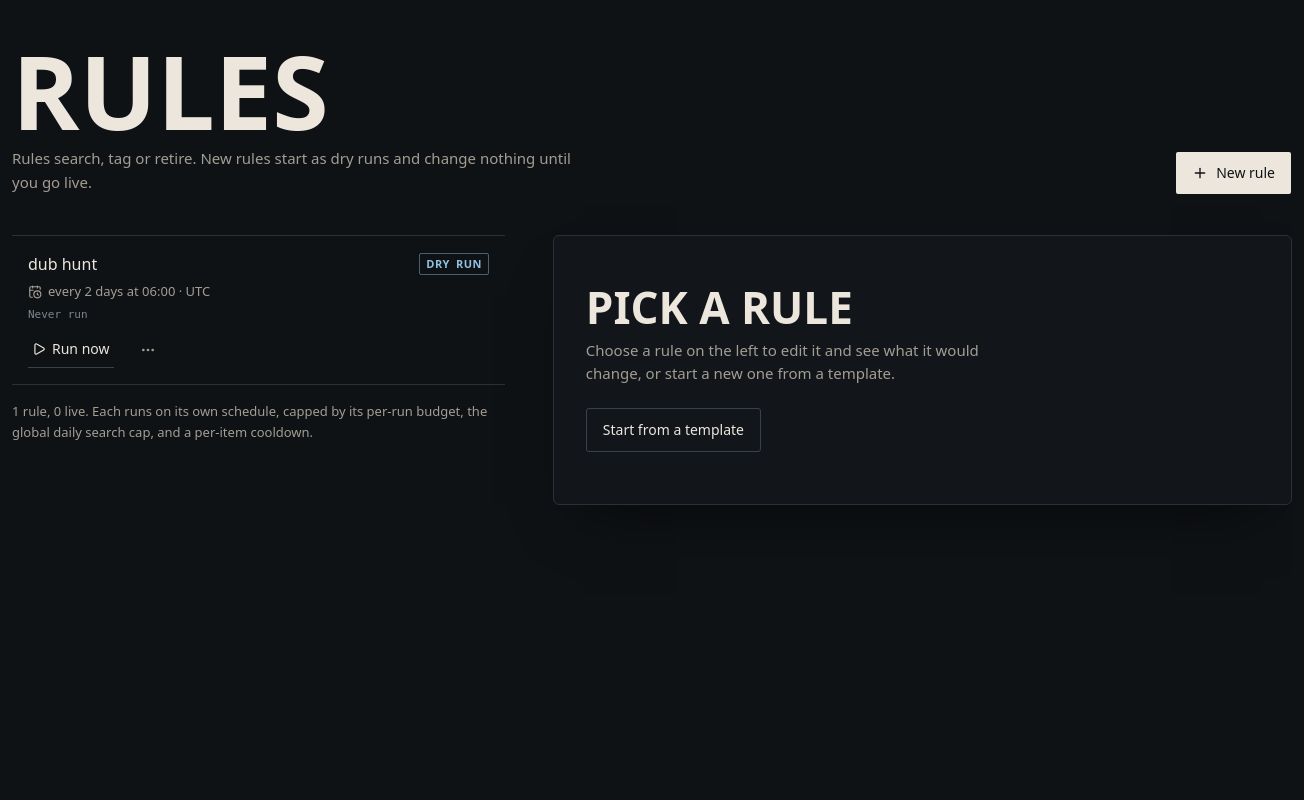
it: AutomationsPage › does not carry one rule's invalidity over to the next rule opened
The width and height of the screenshot is (1304, 800).
Click the button named "more actions for dub hunt": (148, 350) x1=130 y1=332 x2=166 y2=368
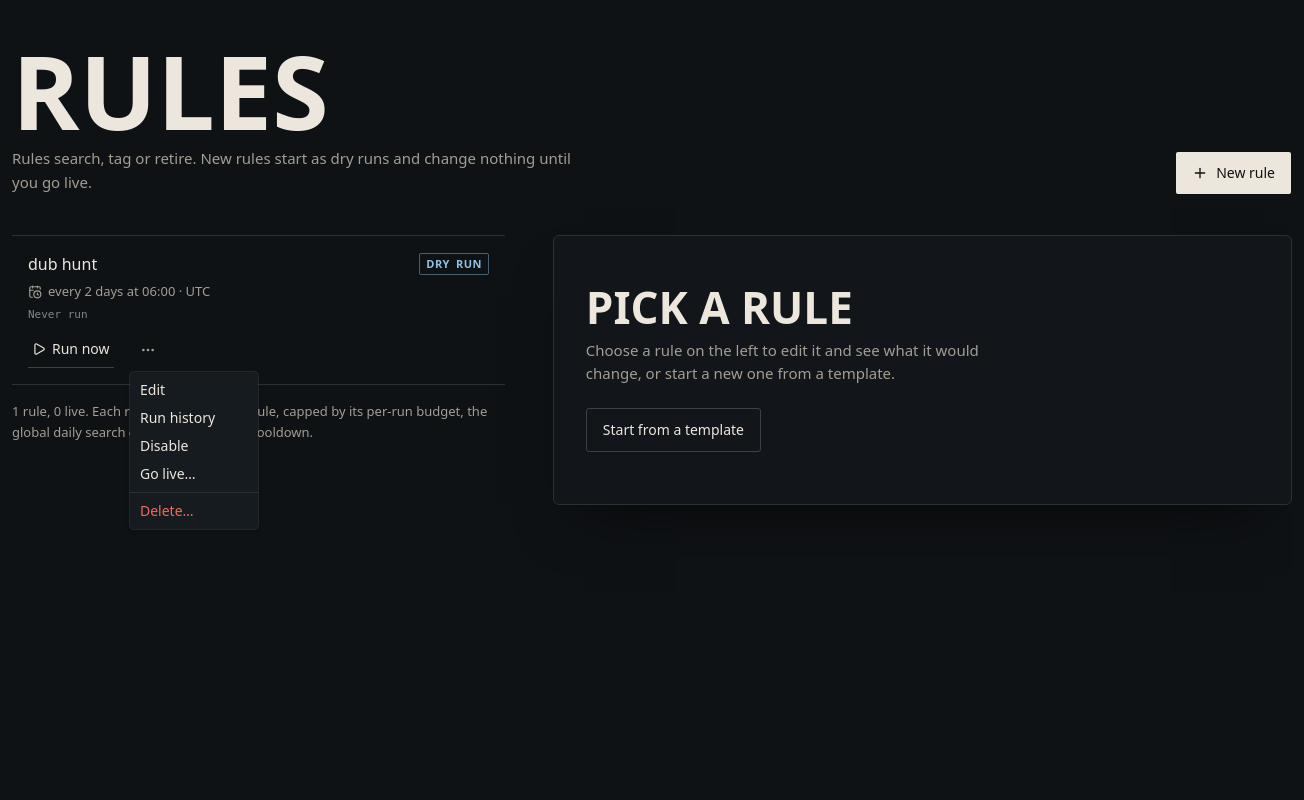
Click the menu item "Edit": (153, 390) x1=140 y1=380 x2=165 y2=399
(page scrolled)
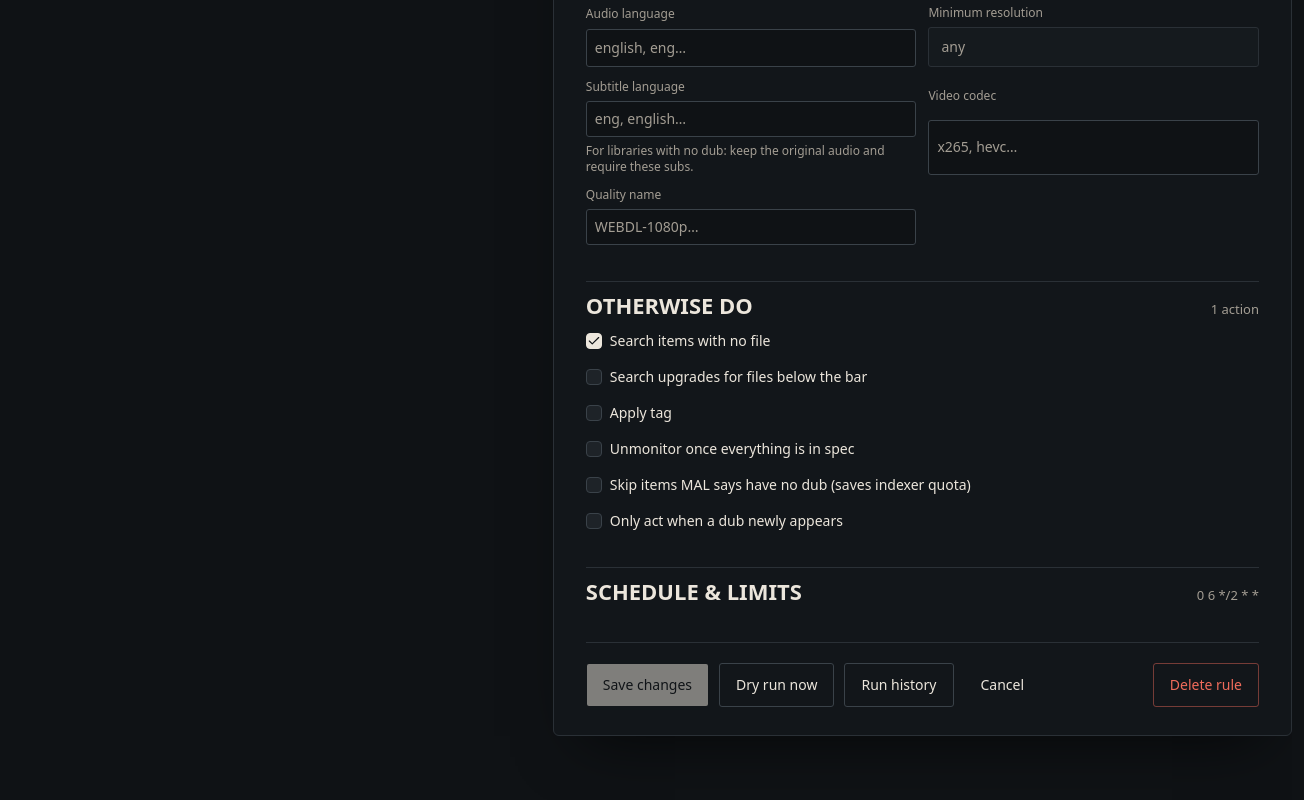
Result: the button "Save changes" is disabled at x1=586 y1=663 x2=709 y2=707
Click the button "Cancel": (1002, 685) x1=964 y1=663 x2=1041 y2=707
(page scrolled)
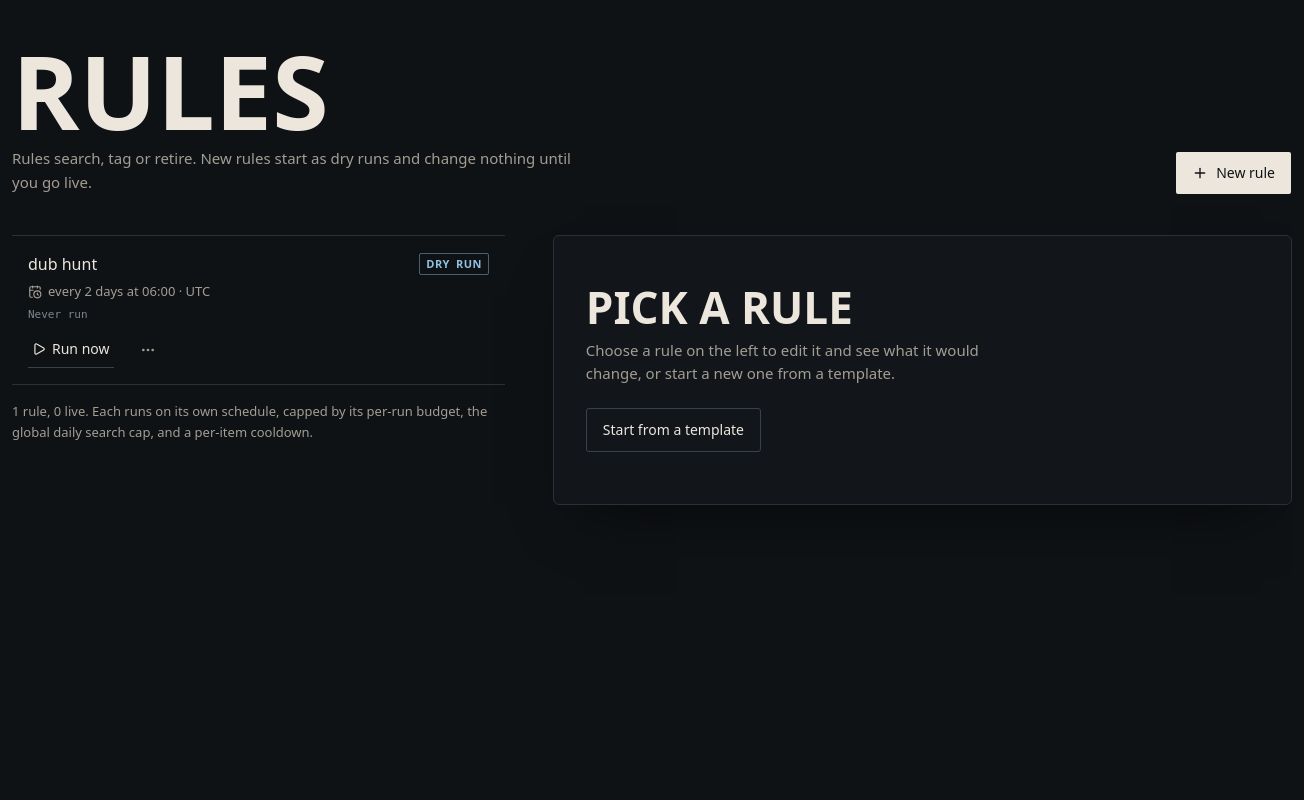
Click the button named "more actions for dub hunt": (148, 350) x1=130 y1=332 x2=166 y2=368
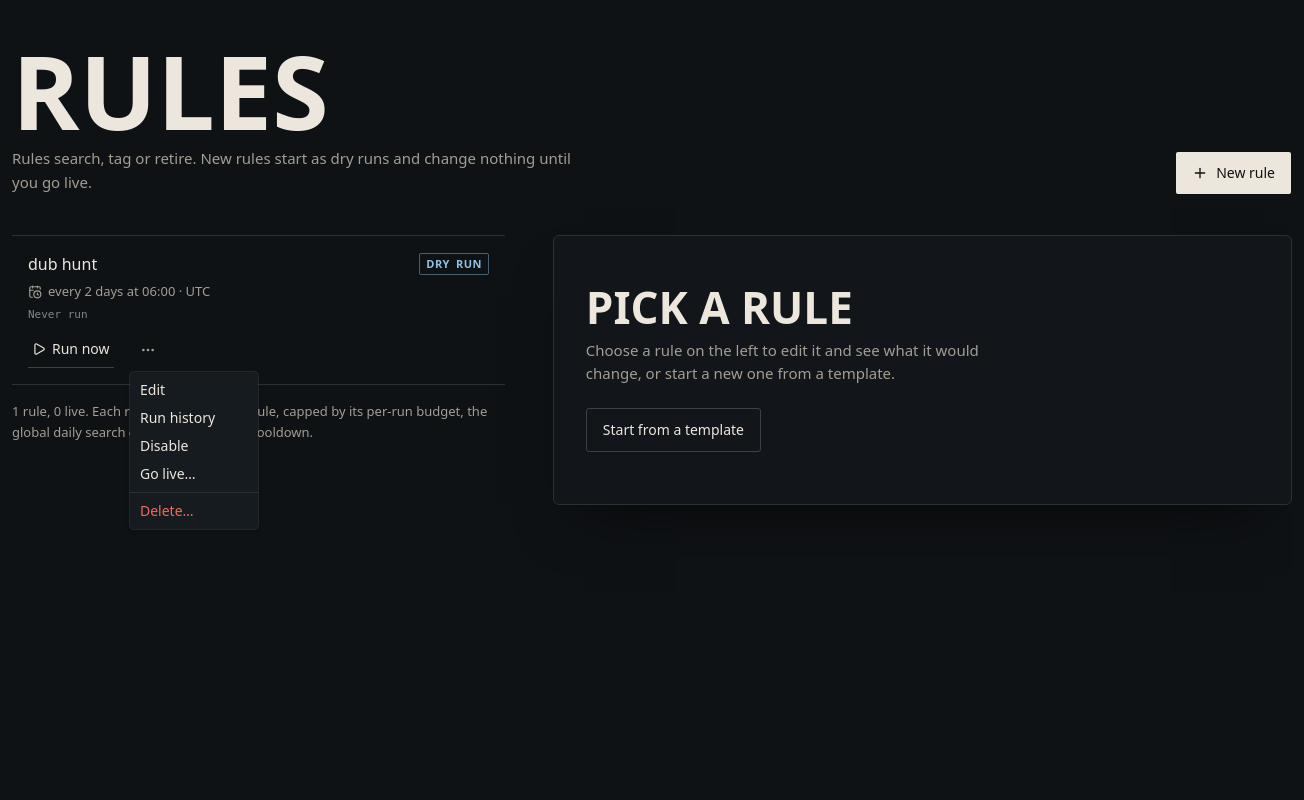
Click the menu item "Edit": (153, 390) x1=140 y1=380 x2=165 y2=399
(page scrolled)
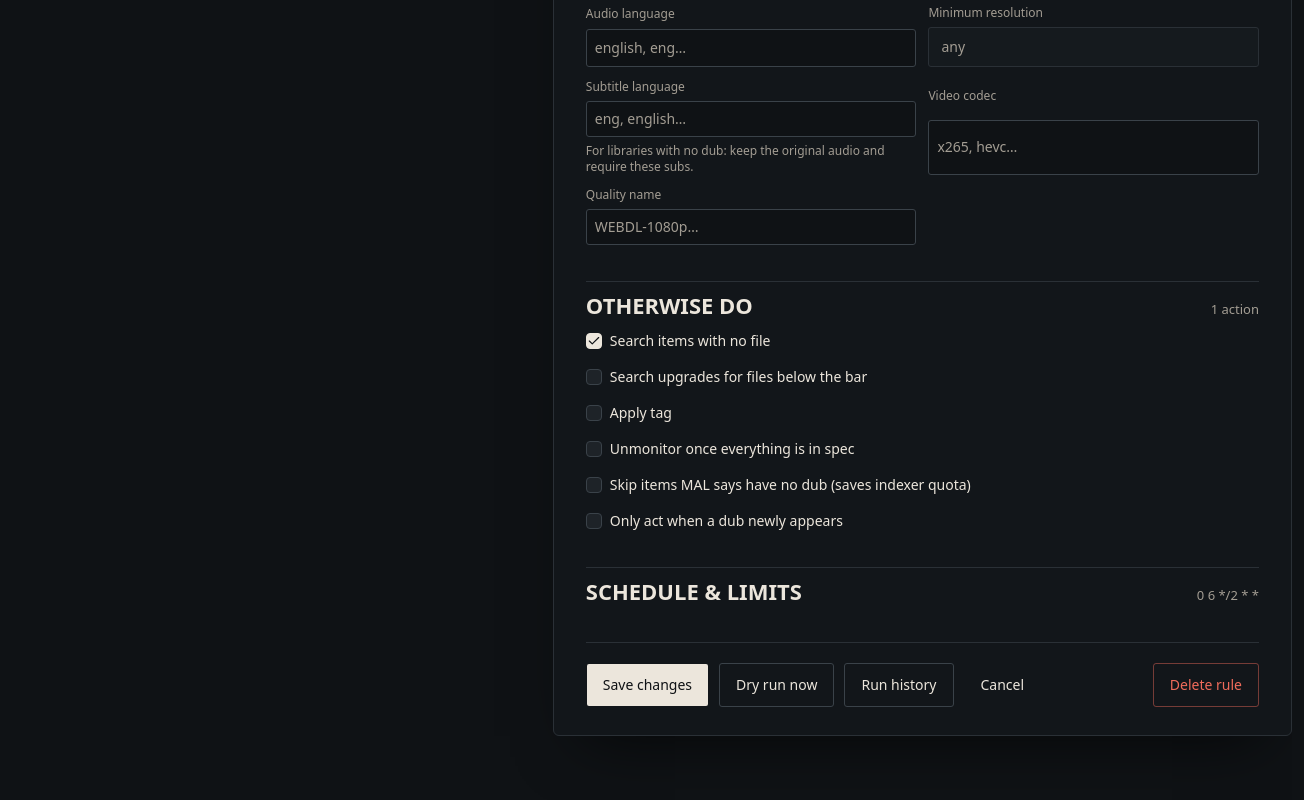
Result: the button "Save changes" is enabled at x1=586 y1=663 x2=709 y2=707
